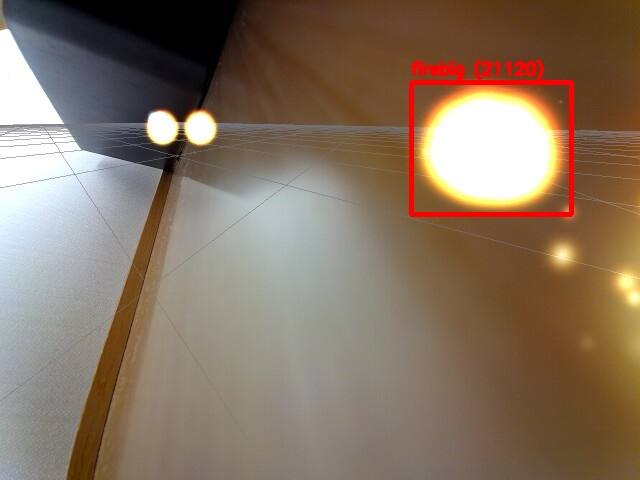firebig: (411, 82, 571, 214)
